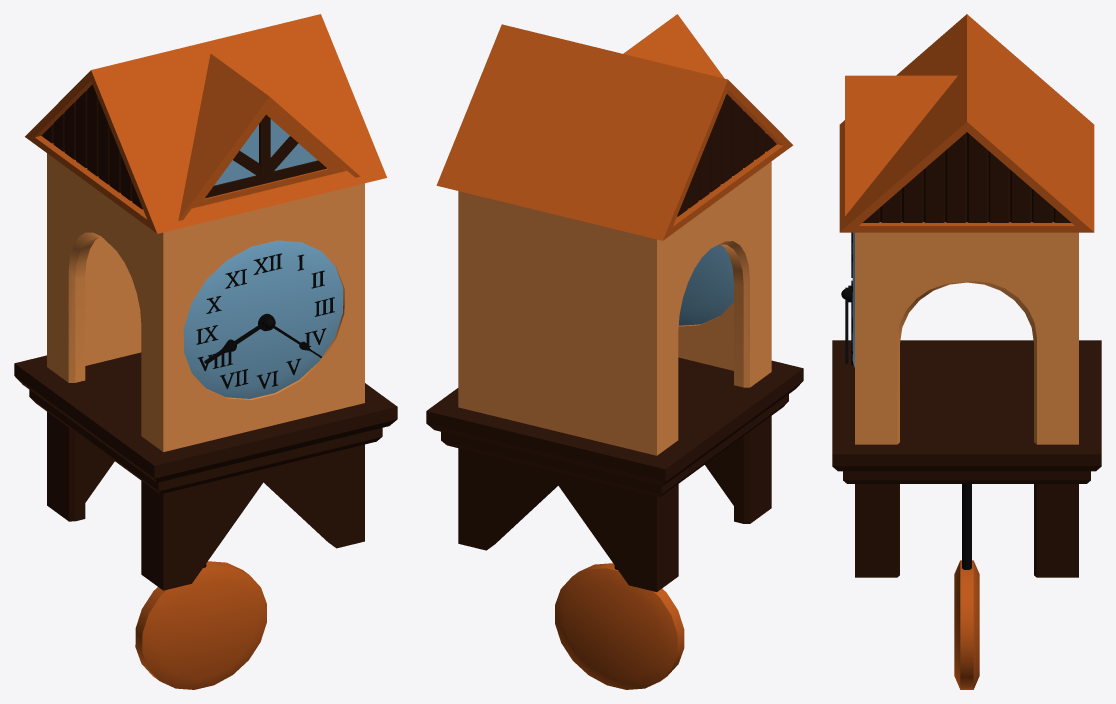
The model's file is ClockHouse_07_uv.fbx.
3 views of the same model, side by side, from view 1: azimuth 30°, elevation 25°; view 2: azimuth 150°, elevation 25°; view 3: azimuth 270°, elevation 25° (orthographic). The views are drawn at different scales.
Visible parts, largest first — view 1: zegar (×5), wahadlo; view 2: zegar (×4), wahadlo; view 3: zegar (×3), wahadlo (×2).
Boxes of the visible parts, bbox=[...] form: zegar (×5): bbox=[14, 14, 397, 590]; wahadlo: bbox=[135, 561, 266, 689]; zegar (×4): bbox=[426, 14, 803, 591]; wahadlo: bbox=[555, 563, 684, 689]; zegar (×3): bbox=[832, 14, 1101, 577]; wahadlo (×2): bbox=[954, 484, 979, 689].
Size of the model in its own units: 6.6 by 16.67 by 6.6.
